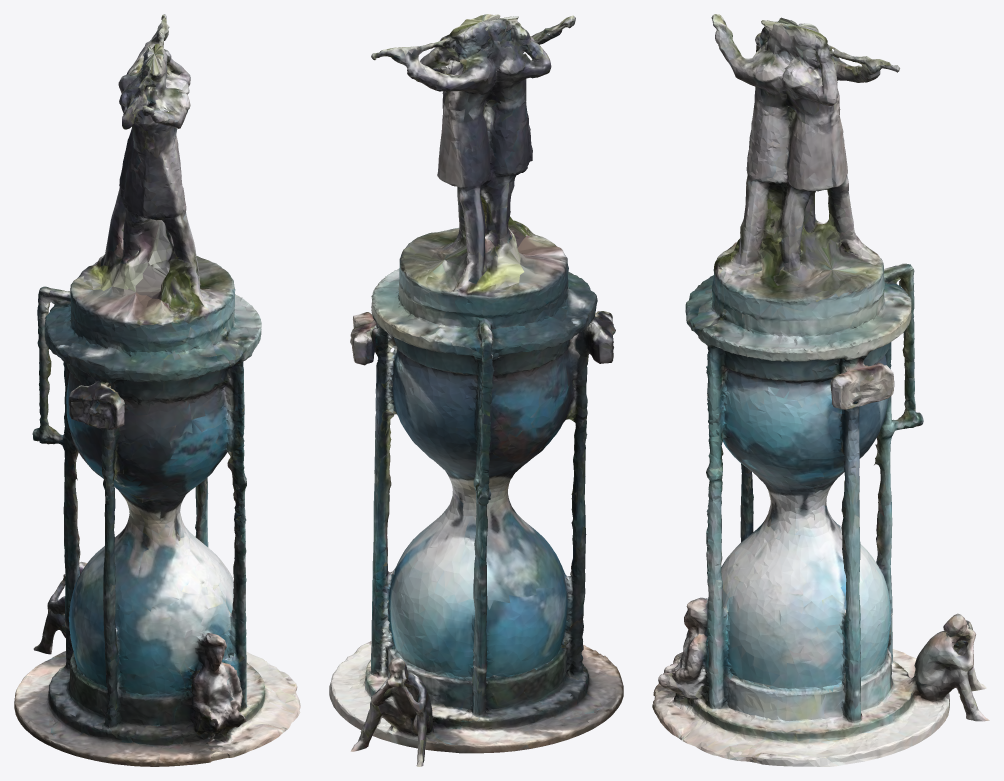
3 renders of one model, left to right at view 1: azimuth 30°, elevation 25°; view 2: azimuth 150°, elevation 25°; view 3: azimuth 270°, elevation 25°, orthographic. The views are drawn at different scales.
Parts seen in each view (by area): view 1: 512.25k; view 2: 512.25k; view 3: 512.25k.
Part boxes in pixels (x1,y1,x2,y2): 512.25k: (14, 14, 300, 766); 512.25k: (329, 14, 623, 766); 512.25k: (652, 14, 989, 766).
Bounding box in the file's own units: 0.4178 × 1.06 × 0.4762.
Materials: 1 (1 with a texture image).
